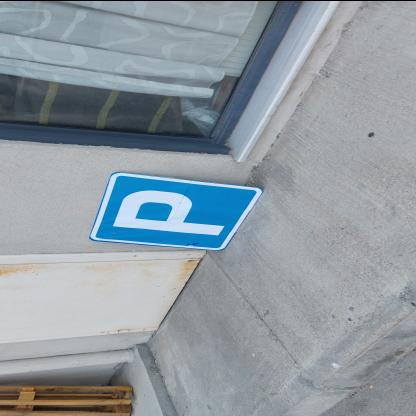Parking-Sign: (90, 173, 264, 251)
